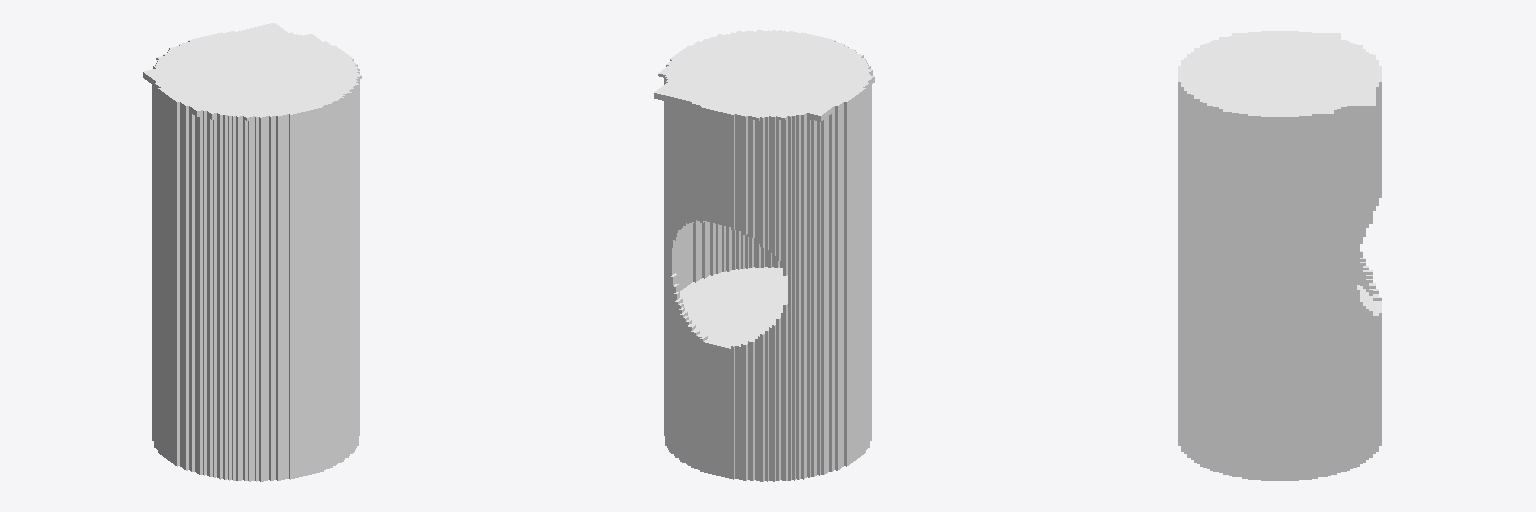
File: RocketInside.obj
3 views of the same model, side by side, from view 1: azimuth 30°, elevation 25°; view 2: azimuth 150°, elevation 25°; view 3: azimuth 270°, elevation 25° (orthographic).
Parts seen in each view (by area): view 1: object 1; view 2: object 1; view 3: object 1.
Part boxes in pixels (bbox=[...]): object 1: bbox=[143, 23, 361, 481]; object 1: bbox=[654, 29, 874, 481]; object 1: bbox=[1178, 31, 1381, 480].
Size of the model in its own units: 6.4 by 12.6 by 6.4.